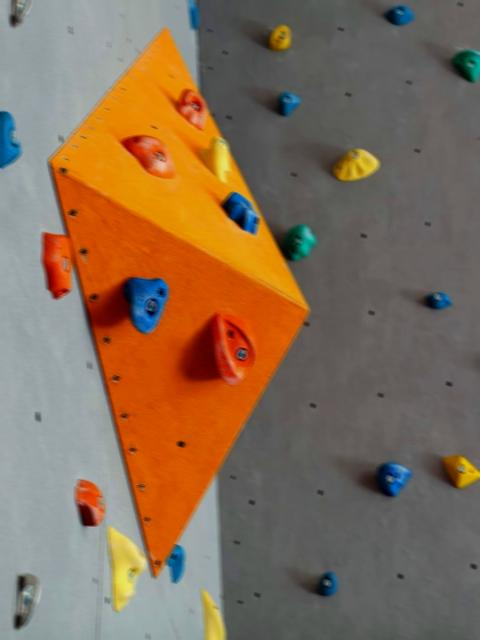jib: (317, 571, 337, 595)
jug: (199, 136, 230, 181), (176, 89, 207, 129)
ledge: (121, 135, 174, 178)
undercling: (211, 312, 254, 385), (122, 277, 168, 333)
volume: (48, 29, 308, 577)
